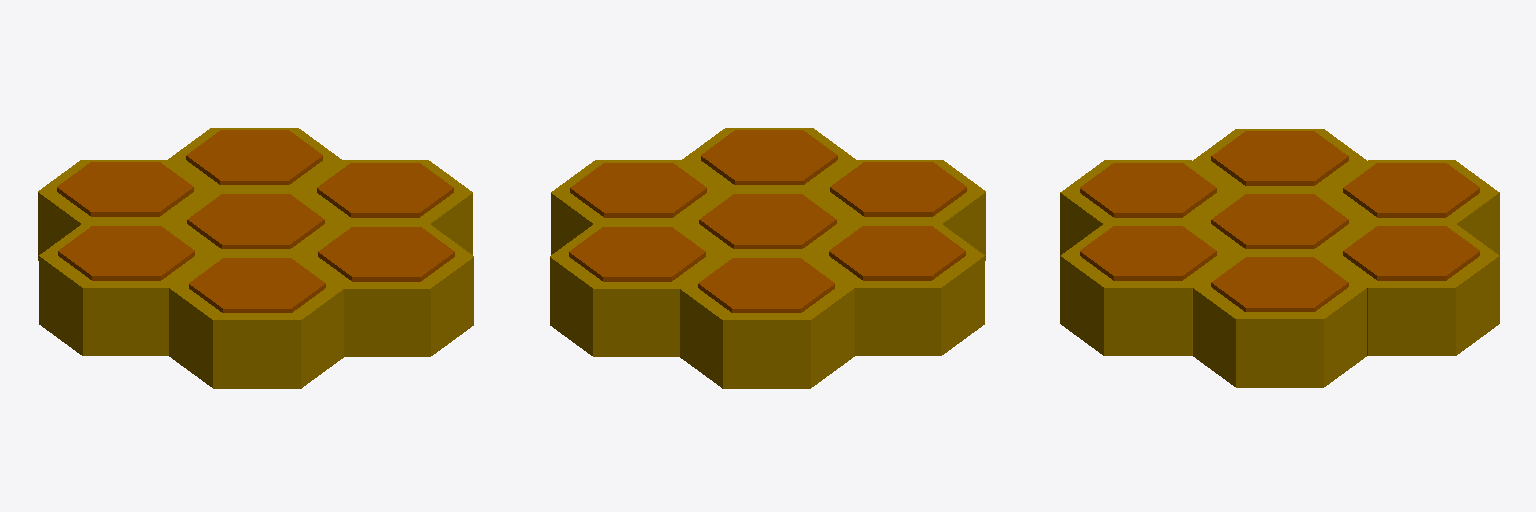
3 renders of one model, left to right at view 1: azimuth 30°, elevation 25°; view 2: azimuth 150°, elevation 25°; view 3: azimuth 270°, elevation 25°, orthographic.
Bounding box in the file's own units: 1.02 × 0.1818 × 0.9894.
2 materials, 2 textured.